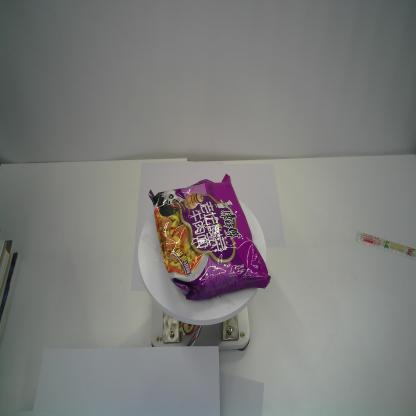Instant Noodles: (146, 172, 271, 302)
